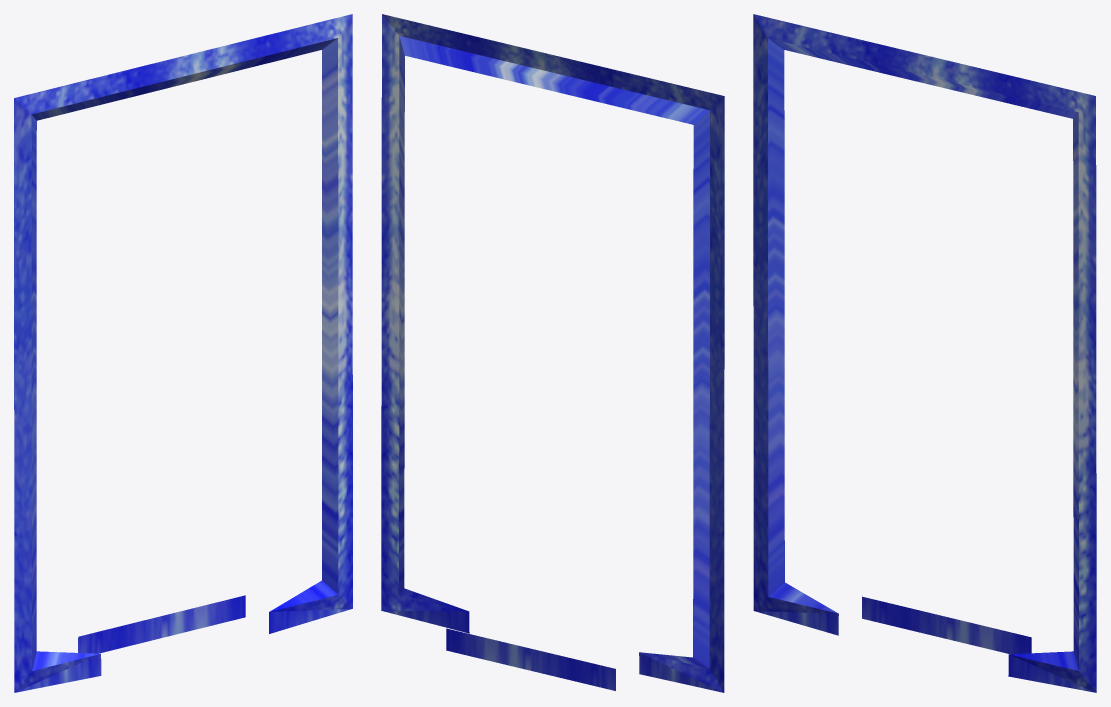
3 renders of one model, left to right at view 1: azimuth 30°, elevation 25°; view 2: azimuth 150°, elevation 25°; view 3: azimuth 330°, elevation 25°, orthographic.
Bounding box in the file's own units: 0.1799 × 0.3017 × 0.0223.
Materials: 1 (1 with a texture image).
